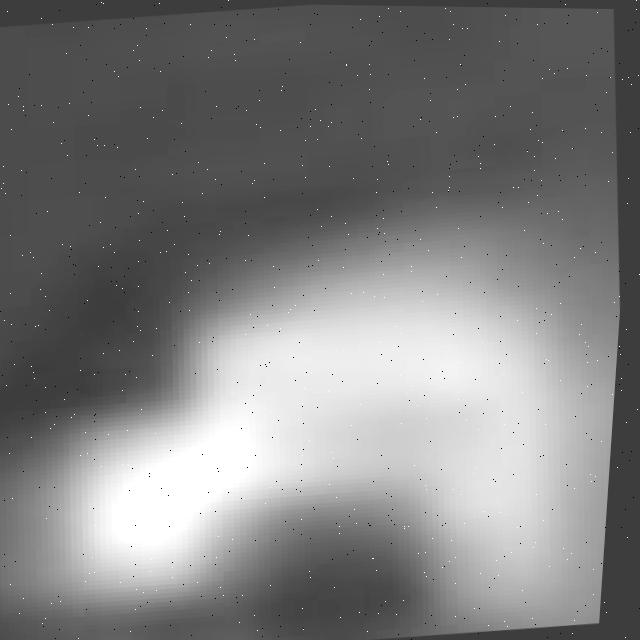person: (1, 188, 631, 640)
